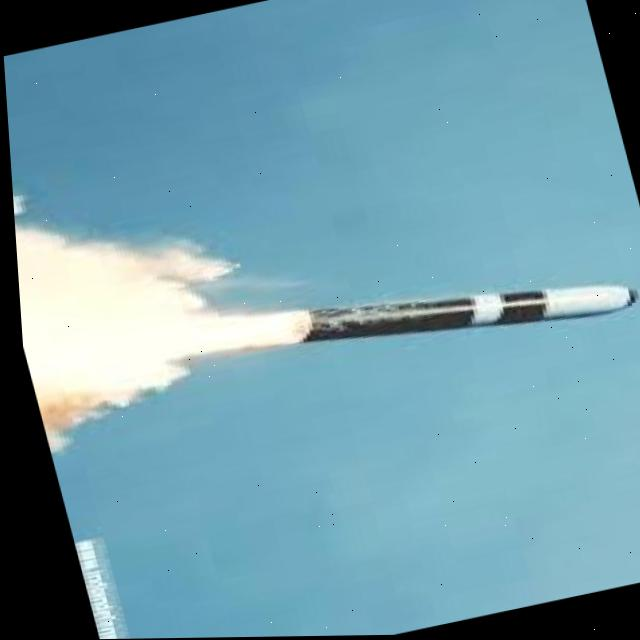missile: (273, 241, 640, 383)
